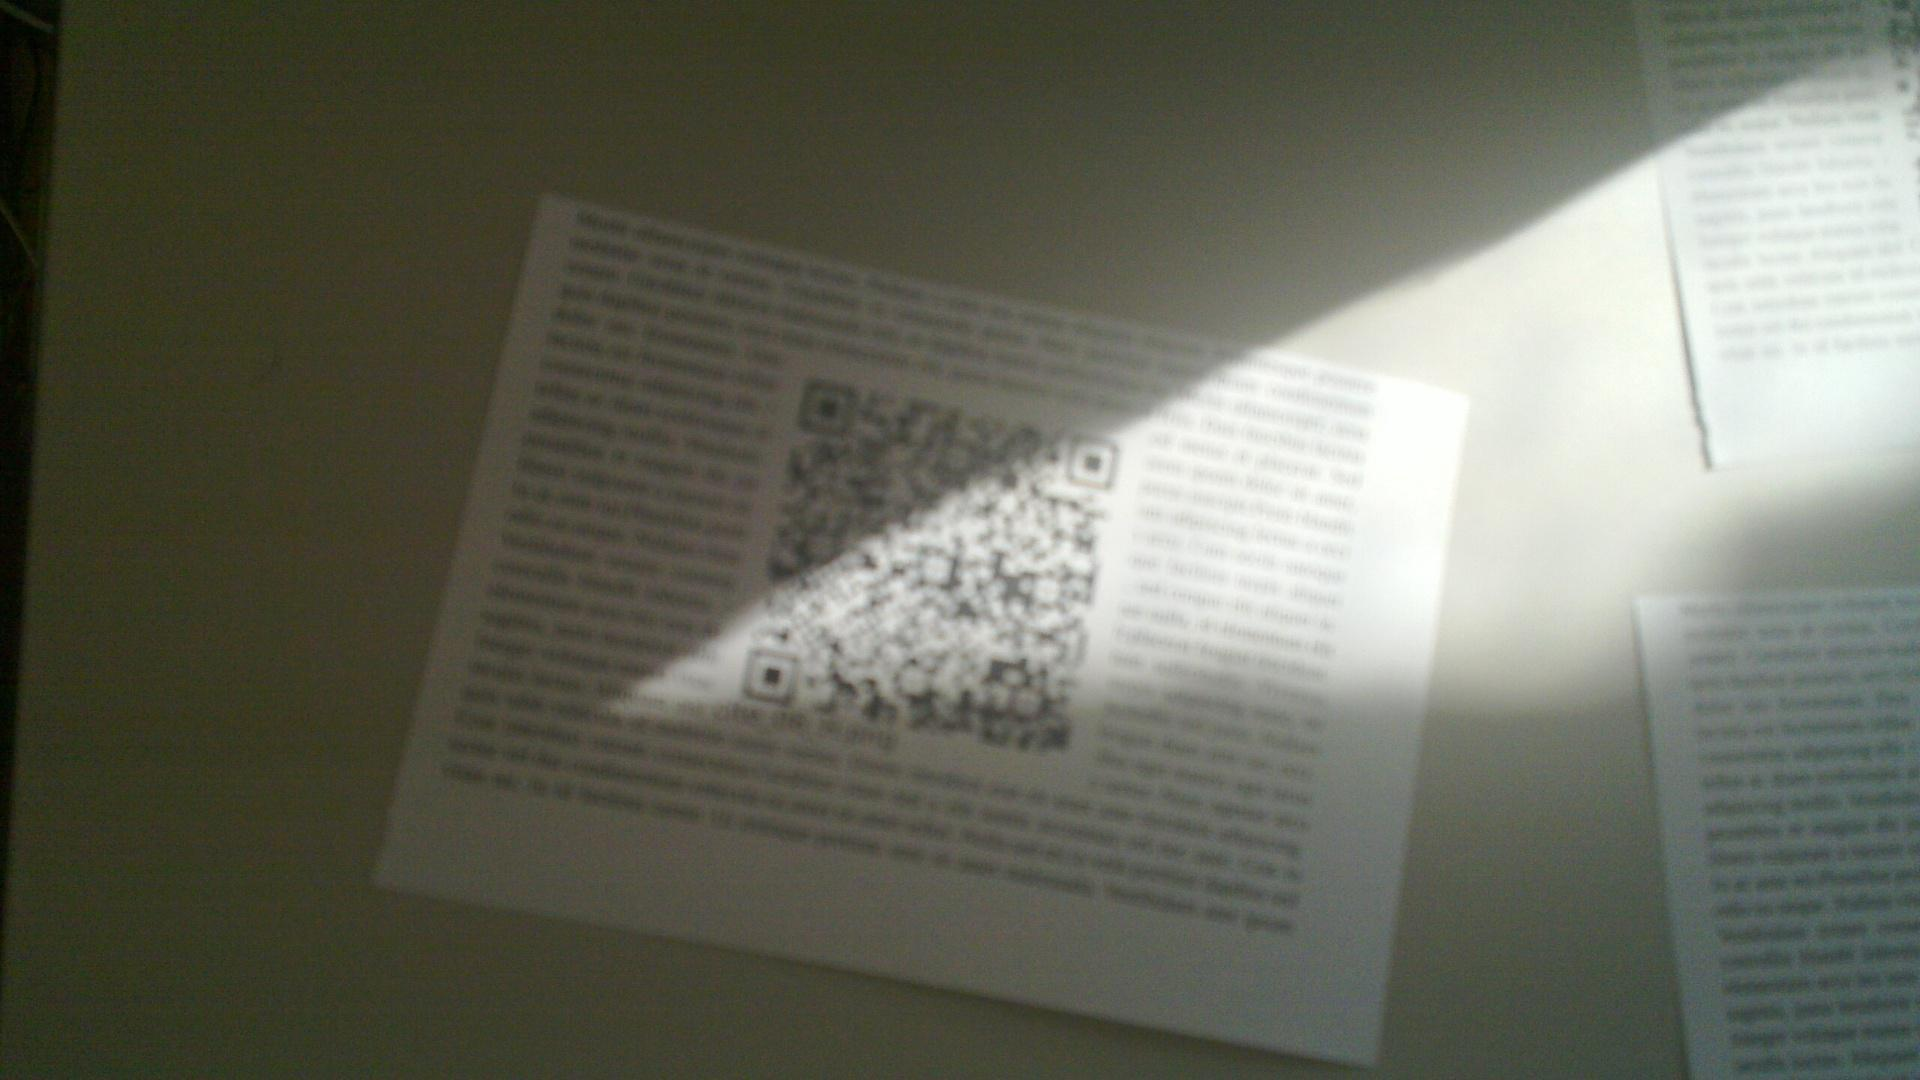Finder pattern: (793, 373, 862, 440), (737, 645, 800, 708), (1062, 430, 1124, 493)
